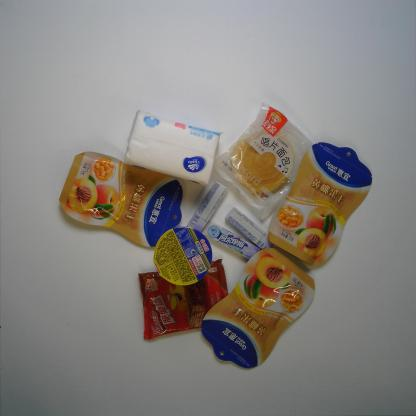Candy: (203, 223, 266, 262), (186, 181, 228, 238), (226, 206, 274, 254)
Dessert: (218, 102, 323, 222), (138, 258, 235, 342)
Dried Fruit: (201, 246, 316, 370), (266, 141, 374, 271), (58, 150, 184, 249)
Instant Noodles: (150, 224, 217, 288)
Tissue: (122, 109, 222, 189)
